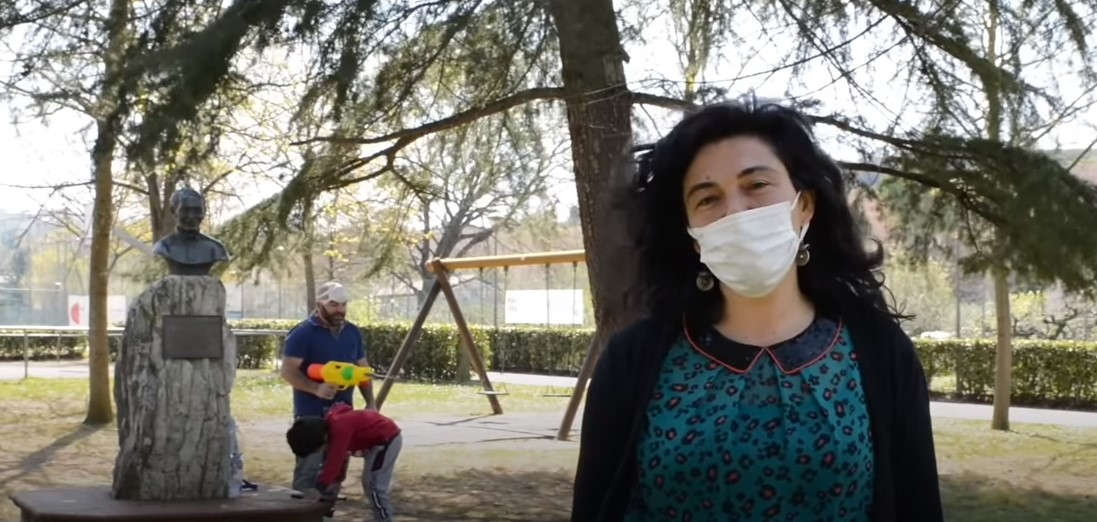face_with_mask: (671, 113, 822, 300), (310, 279, 352, 330)
